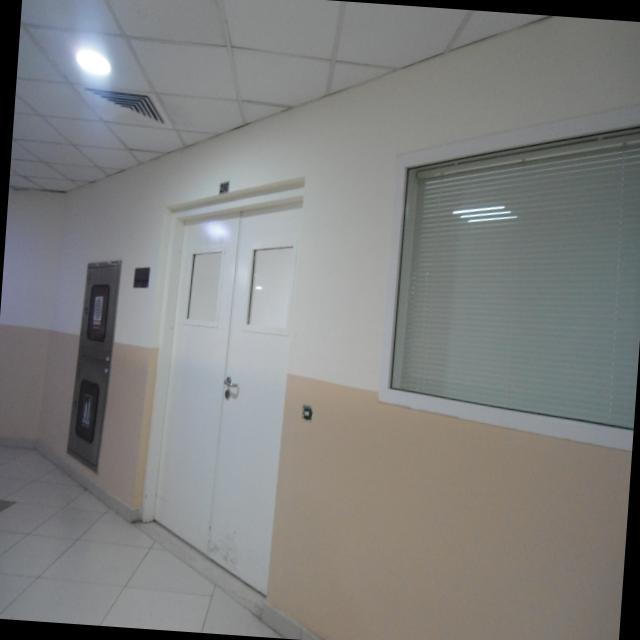door: (142, 192, 308, 606)
wall: (42, 0, 640, 640), (0, 183, 73, 451)
